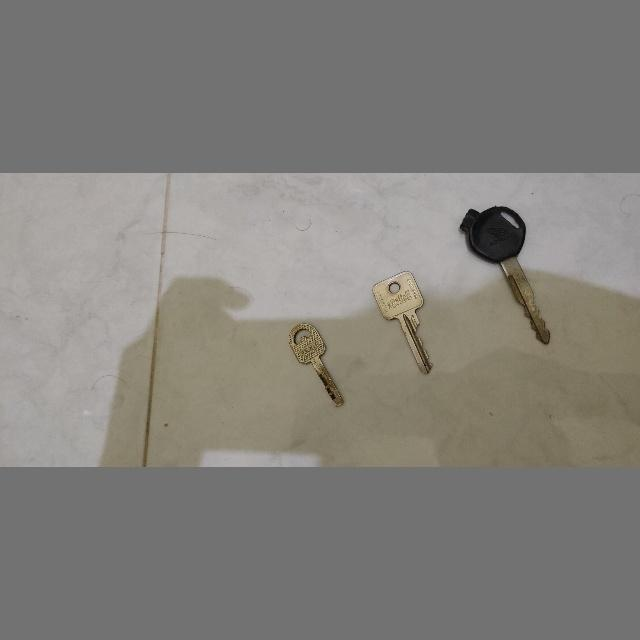Keys: (456, 198, 560, 346), (372, 266, 438, 378), (290, 320, 346, 408)
